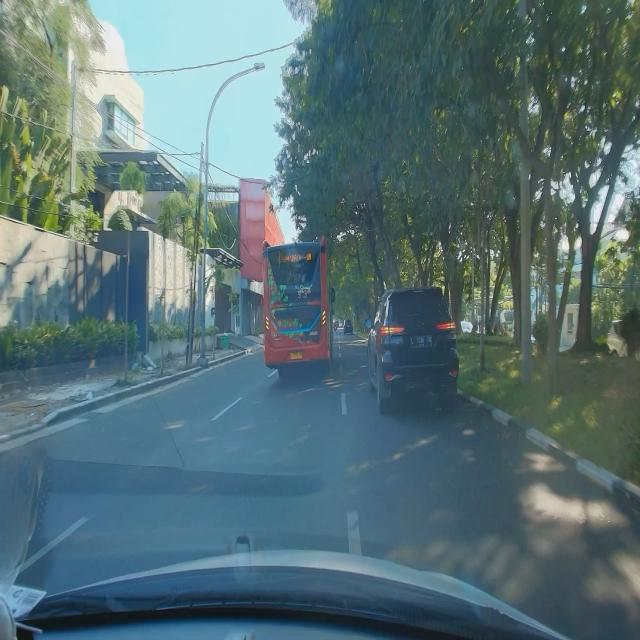bus: (261, 234, 336, 379)
car: (366, 284, 462, 418)
license-plate: (410, 335, 432, 348), (290, 351, 303, 360)
